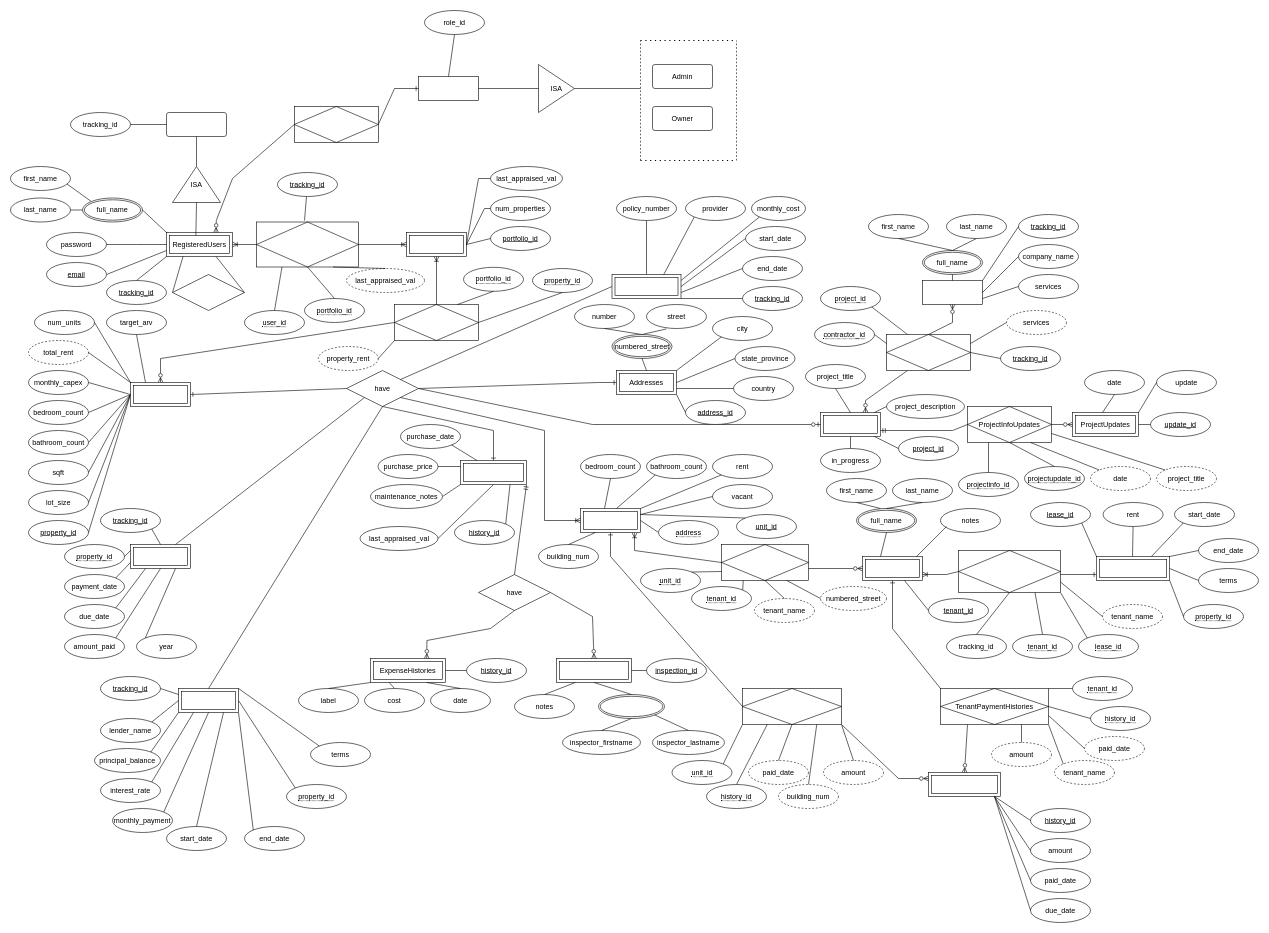
Image size: 1269x933. Some labels were removed from this diagram. Each missing label, with the centre of its shape:
Contractors: [952,292]
Employ: [208,292]
InspectionRecords: [594,670]
inspector_name: [631,706]
InsurancePolicy: [646,286]
LeaseAgreements: [1133,568]
Mortgages: [208,700]
PaymentHistories: [964,784]
PortfolioProperties: [436,322]
Portfolios: [436,244]
ProjectContractors: [928,352]
ProjectInfos: [850,424]
Properties: [160,394]
PropertyHistories: [493,472]
Role: [448,88]
TaxRecords: [160,556]
TenantLeaseAgreements: [1009,571]
Tenants: [892,568]
UnitPaymentHistories: [792,706]
Units: [610,520]
UnitTenants: [764,562]
User: [196,124]
UserPortfolios: [307,244]
UserRole: [336,124]
